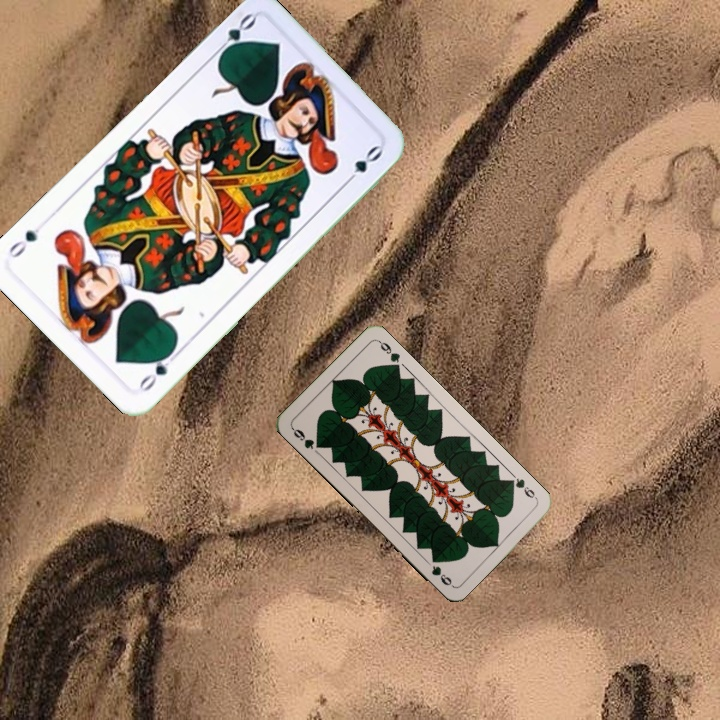G9: (503, 474, 540, 503), (288, 424, 325, 452)
GO: (210, 9, 259, 61), (134, 345, 181, 395)
